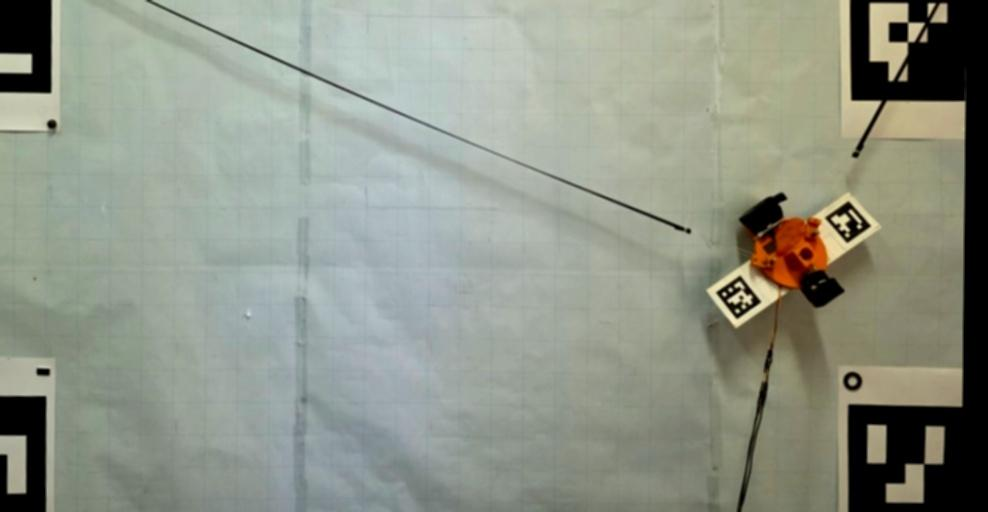robot: (736, 192, 845, 308)
